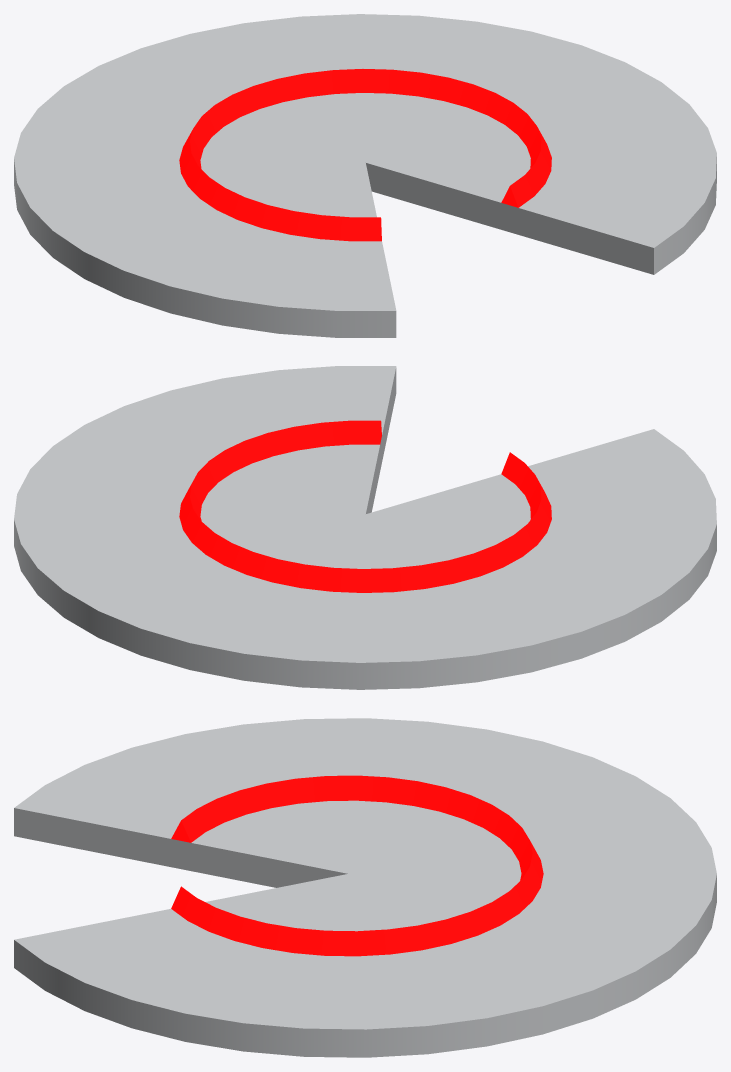
File: hoverpad_theslice.glb
The picture shows the model from 3 angles, top to bottom: view 1: azimuth 30°, elevation 25°; view 2: azimuth 150°, elevation 25°; view 3: azimuth 270°, elevation 25°; orthographic projection. The views are drawn at different scales.
Parts seen in each view (by area): view 1: hoverpad_theslice; view 2: hoverpad_theslice; view 3: hoverpad_theslice.
Part boxes in pixels (left/top/right/bottom): hoverpad_theslice: left=14, top=14, right=716, bottom=337; hoverpad_theslice: left=14, top=366, right=716, bottom=689; hoverpad_theslice: left=14, top=718, right=716, bottom=1057.
Bounding box in the file's own units: 0.1298 × 0.00948 × 0.1239.
